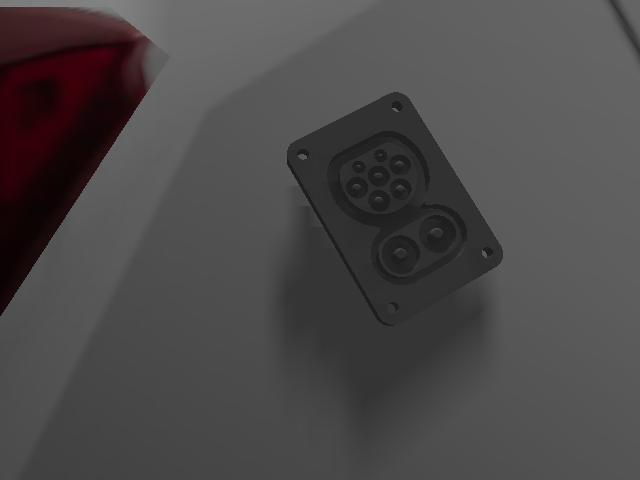EV-socket: (287, 94, 501, 323)
